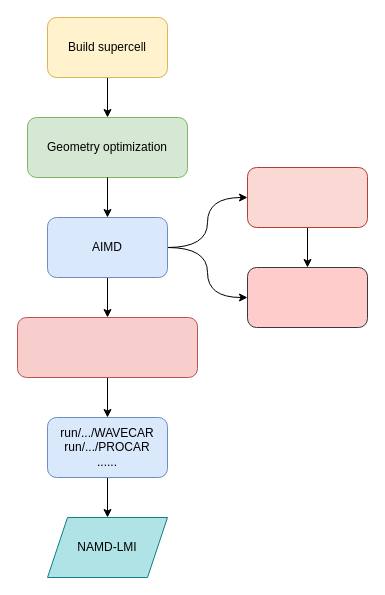
The diagram is 385 pixels wide and 595 high, and some of its shapes have lost their labels. Here are the shapes that lost their labels. From the top down, the centre of each, then its label:
point (307, 197): NVT ensemble
point (307, 297): NVE ensemble
point (107, 347): SCF on each NVE step
